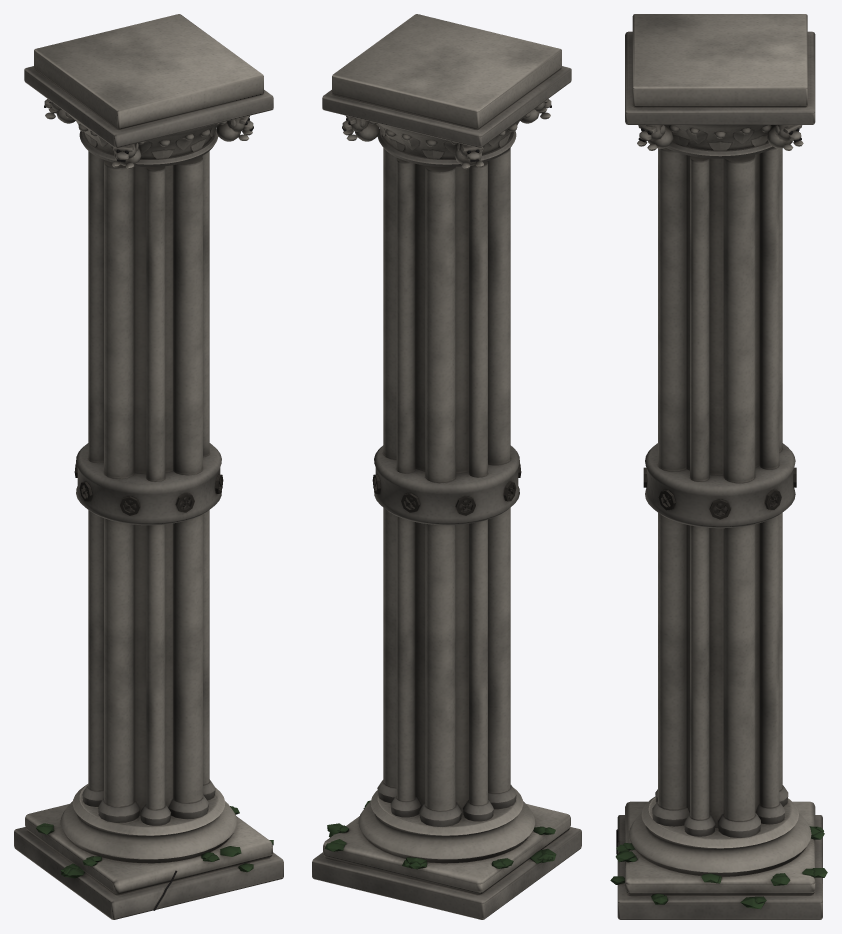
Rendered from PillarCluster.fbx.
3 renders of one model, left to right at view 1: azimuth 30°, elevation 25°; view 2: azimuth 150°, elevation 25°; view 3: azimuth 270°, elevation 25°, orthographic. The views are drawn at different scales.
Visible parts, largest first — view 1: PillarCluster; view 2: PillarCluster; view 3: PillarCluster.
Part boxes in pixels (left/top/right/bottom): PillarCluster: left=14, top=14, right=283, bottom=919; PillarCluster: left=312, top=14, right=581, bottom=919; PillarCluster: left=610, top=14, right=827, bottom=919.
Size of the model in its own units: 310 by 1200 by 286.
